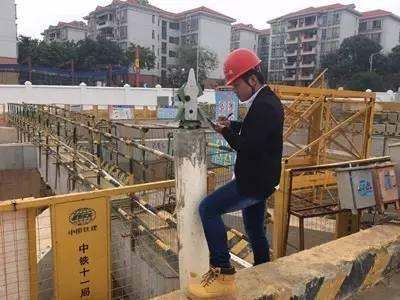helmet: (215, 48, 269, 85)
